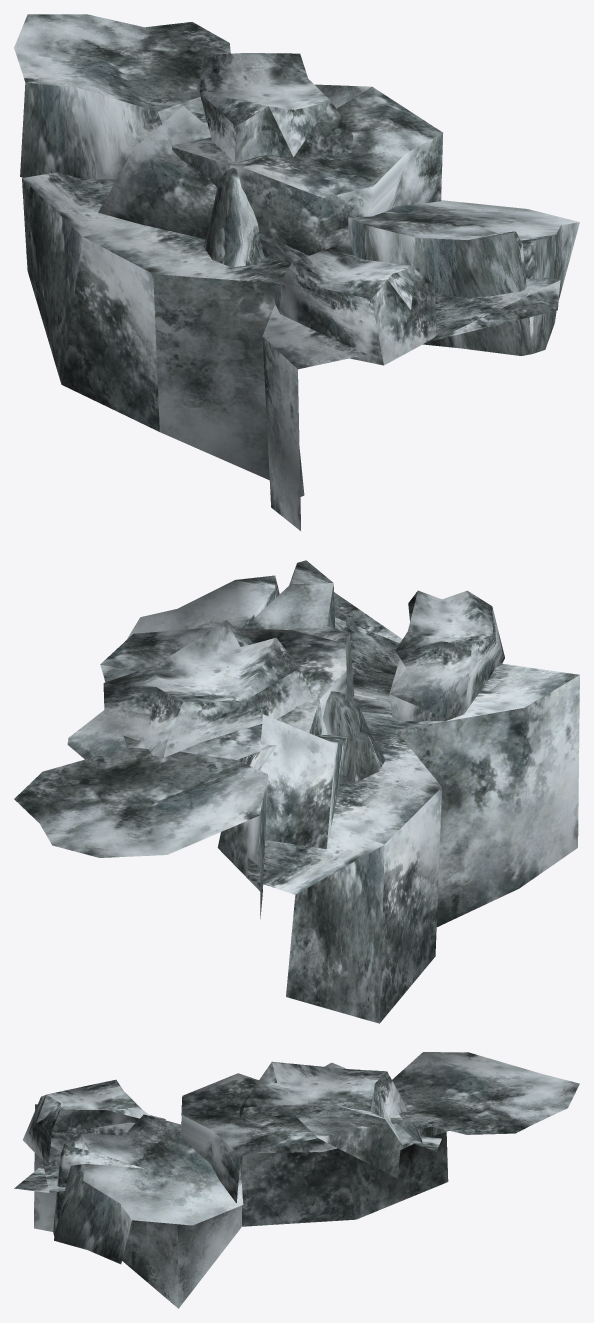
The model's file is S_Rock_White046_2.FBX.
3 renders of one model, top to bottom at view 1: azimuth 30°, elevation 25°; view 2: azimuth 150°, elevation 25°; view 3: azimuth 270°, elevation 25°, orthographic. The views are drawn at different scales.
Parts seen in each view (by area): view 1: S_Rock_White046_2; view 2: S_Rock_White046_2; view 3: S_Rock_White046_2.
Part boxes in pixels (x1=…): S_Rock_White046_2: x1=14, y1=14, x2=579, y2=530; S_Rock_White046_2: x1=14, y1=560, x2=579, y2=1023; S_Rock_White046_2: x1=14, y1=1052, x2=579, y2=1308.
Size of the model in its own units: 574 by 501 by 1000.
